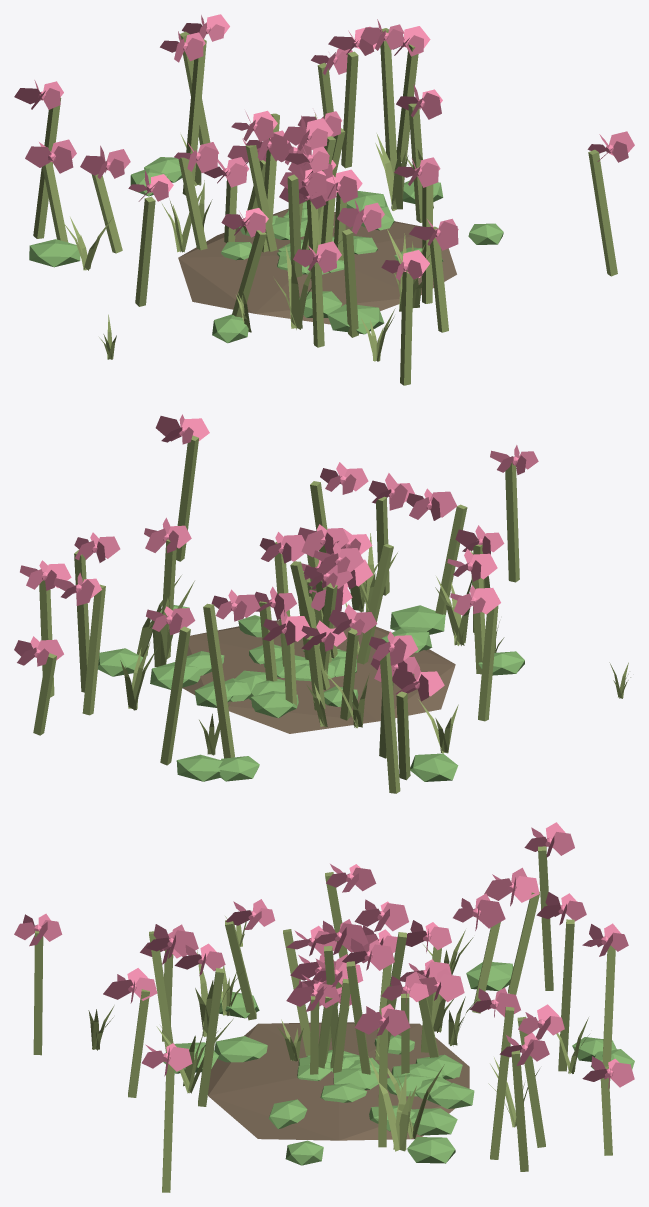
File: flowers.glb
3 views of the same model, one above another, from view 1: azimuth 30°, elevation 25°; view 2: azimuth 150°, elevation 25°; view 3: azimuth 270°, elevation 25° (orthographic). The views are drawn at different scales.
Parts seen in each view (by area): view 1: Nt_Flowers; view 2: Nt_Flowers; view 3: Nt_Flowers.
Boxes of the visible parts, left/top/right/bottom form: Nt_Flowers: left=14, top=14, right=634, bottom=385; Nt_Flowers: left=14, top=414, right=630, bottom=793; Nt_Flowers: left=14, top=822, right=634, bottom=1192.
Bounding box in the file's own units: 1.62 × 0.5247 × 1.63.
